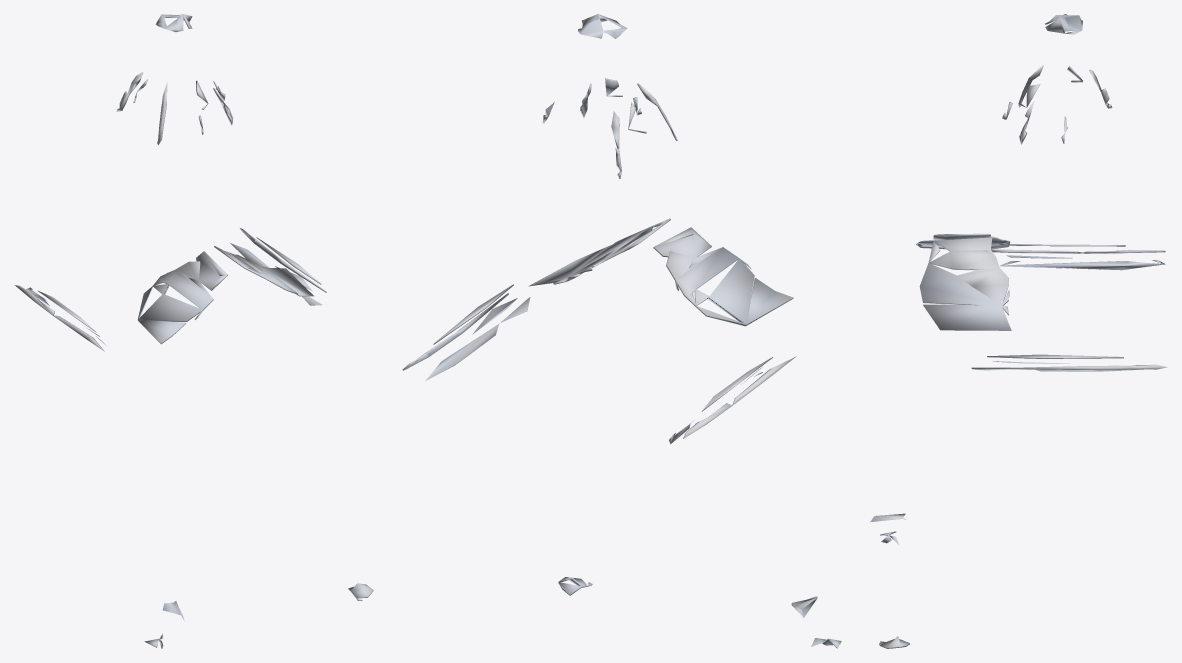
The model's file is protocol.aave.snow.glb.
3 renders of one model, left to right at view 1: azimuth 30°, elevation 25°; view 2: azimuth 150°, elevation 25°; view 3: azimuth 270°, elevation 25°, orthographic. The views are drawn at different scales.
Visible parts, largest first — view 1: building.protocol.aave.snow.mesh; view 2: building.protocol.aave.snow.mesh; view 3: building.protocol.aave.snow.mesh.
Boxes of the visible parts, box(x1,y1,x2,y2) form: building.protocol.aave.snow.mesh: box(14, 14, 373, 648); building.protocol.aave.snow.mesh: box(402, 14, 841, 648); building.protocol.aave.snow.mesh: box(870, 14, 1167, 648).
Size of the model in its own units: 11.41 by 26.08 by 12.16.
